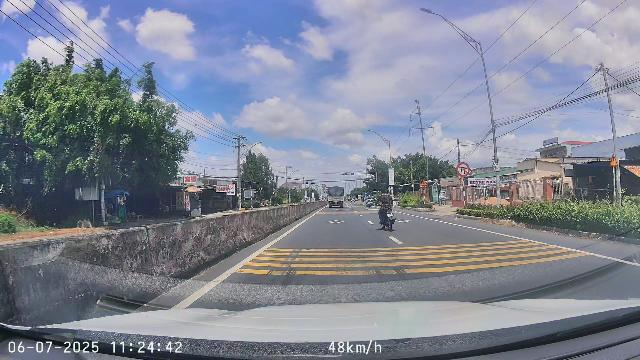124b-cam-oto-quay-dau-xe: (456, 162, 470, 177)
